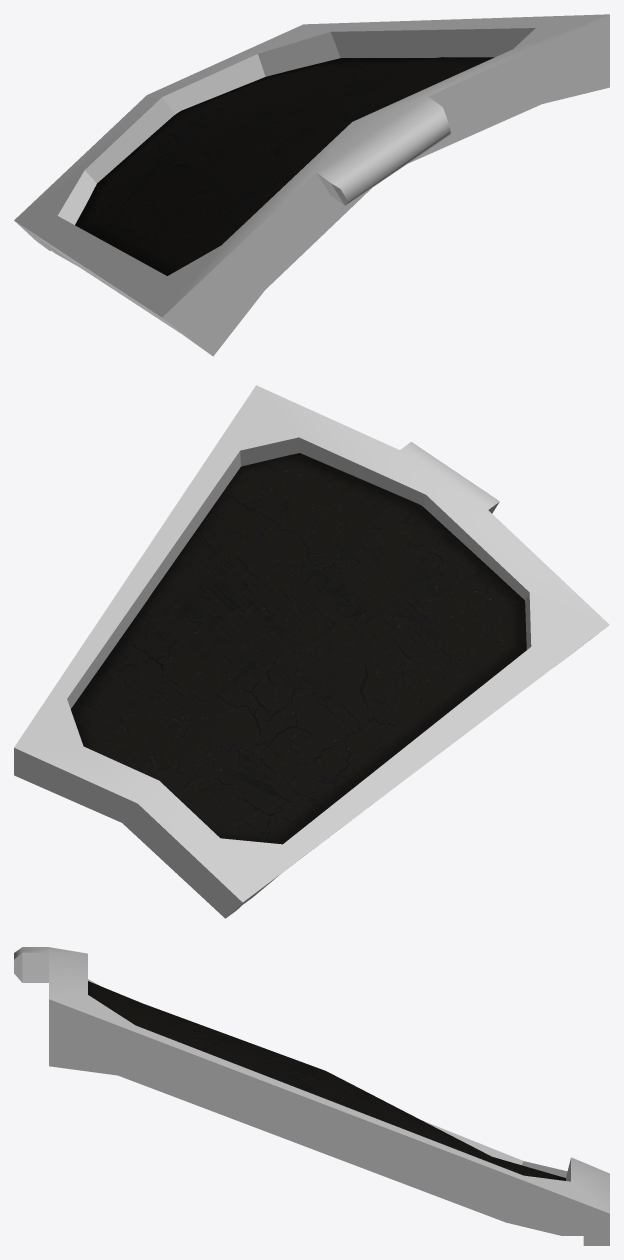
The model's file is 01_05_transporter_passenger_window_hatch03.dae.
The picture shows the model from 3 angles, top to bottom: view 1: azimuth 30°, elevation 25°; view 2: azimuth 150°, elevation 25°; view 3: azimuth 270°, elevation 25°; orthographic projection. The views are drawn at different scales.
Visible parts, largest first — view 1: polySurface1133, window03_glass; view 2: window03_glass, polySurface1133; view 3: polySurface1133, window03_glass.
Boxes of the visible parts, x1=… form: polySurface1133: x1=14, y1=14, x2=609, y2=356; window03_glass: x1=75, y1=57, x2=494, y2=275; window03_glass: x1=71, y1=453, x2=526, y2=844; polySurface1133: x1=14, y1=385, x2=609, y2=918; polySurface1133: x1=14, y1=947, x2=609, y2=1245; window03_glass: x1=88, y1=981, x2=565, y2=1180.
Bounding box in the file's own units: 1.45 × 1.19 × 1.83.
